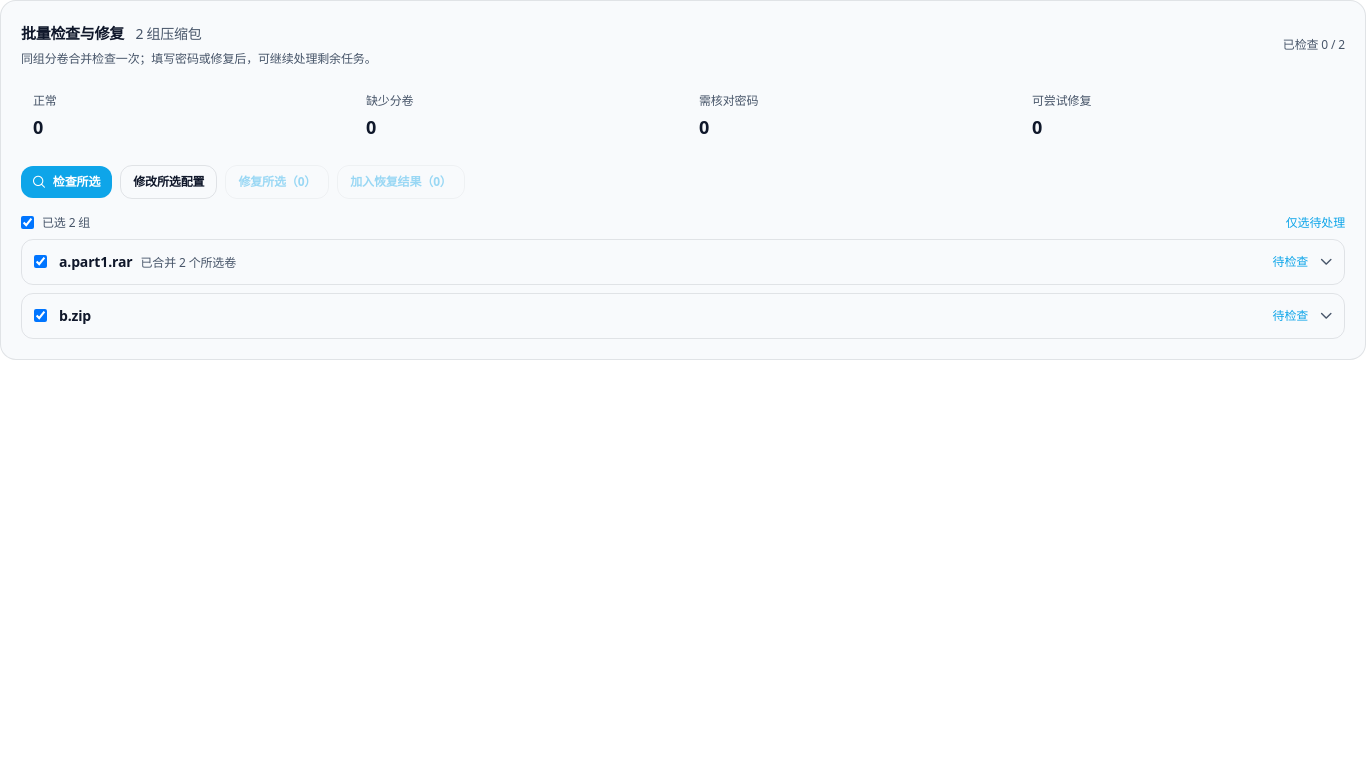
archive batch recovery user flow › groups volumes, expands individual rows and keeps bulk configuration inside a dialog
Expected: the number of elements with test id "archive-batch-row" is 2, [21,238,1345,284]; [21,292,1345,338]
Click the 1st button with test id "archive-batch-expand": (96, 261) [59,252,1332,272]
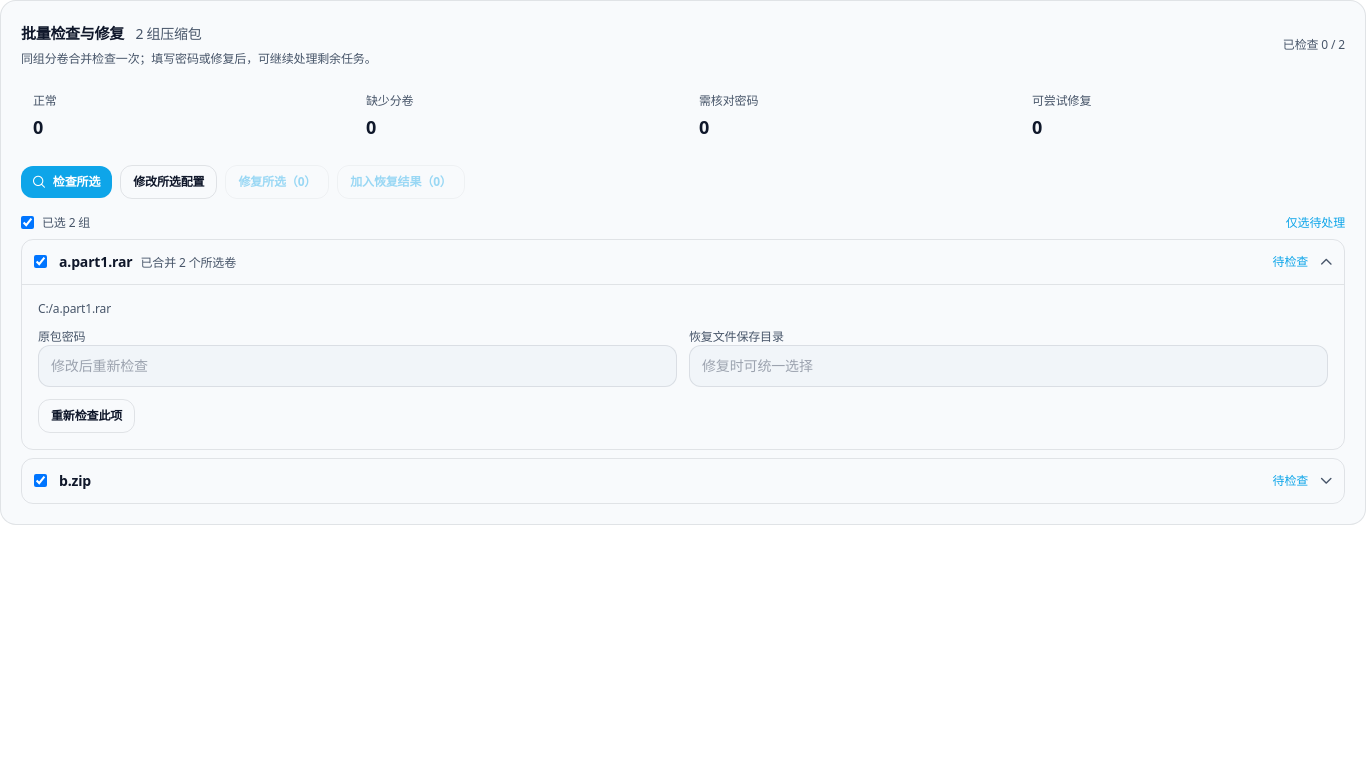
Now the element with test id "archive-batch-detail" is shown, box [22,284,1344,448]
Click the checkbox named "选择全部压缩包": (28, 222) [21,216,34,229]
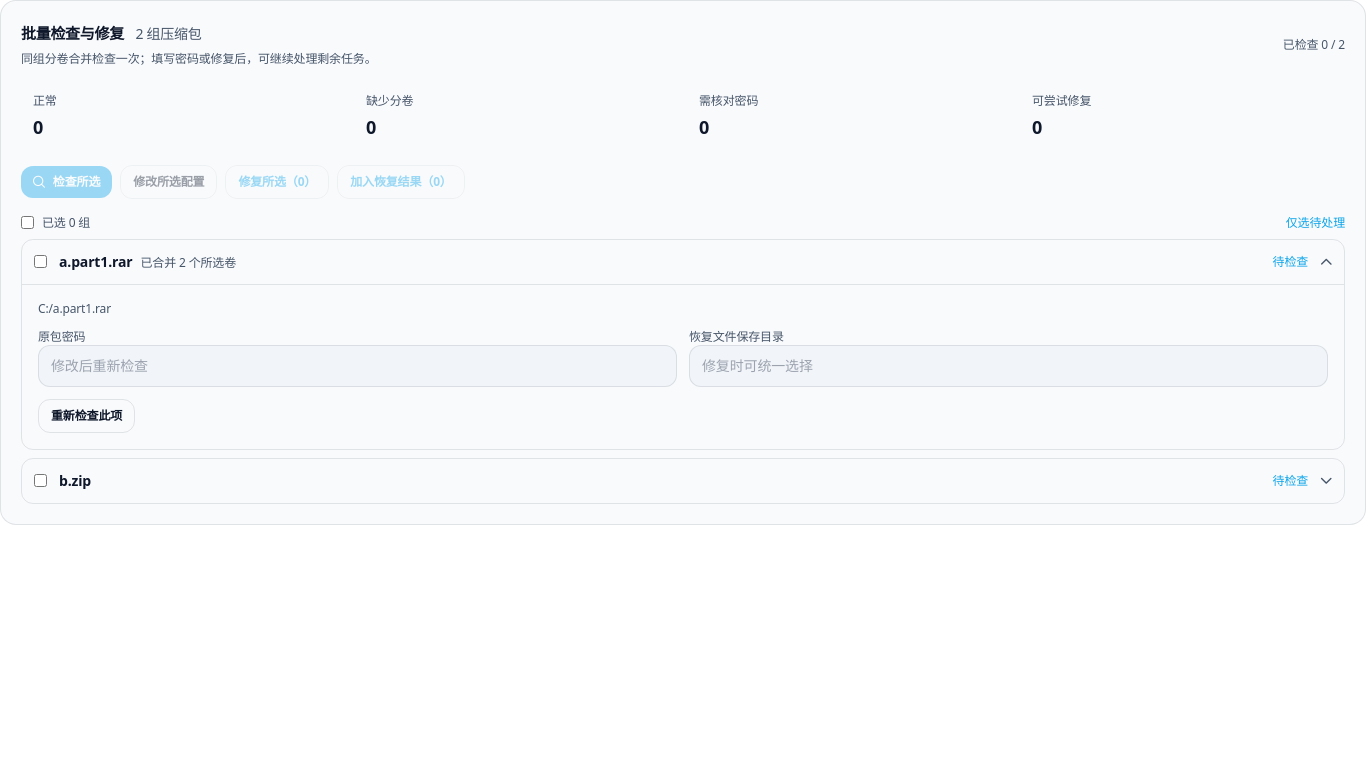
Now the button with test id "batch-diagnose" is disabled, box [21,166,112,198]
Click the checkbox named "选择全部压缩包": (28, 222) [21,216,34,229]
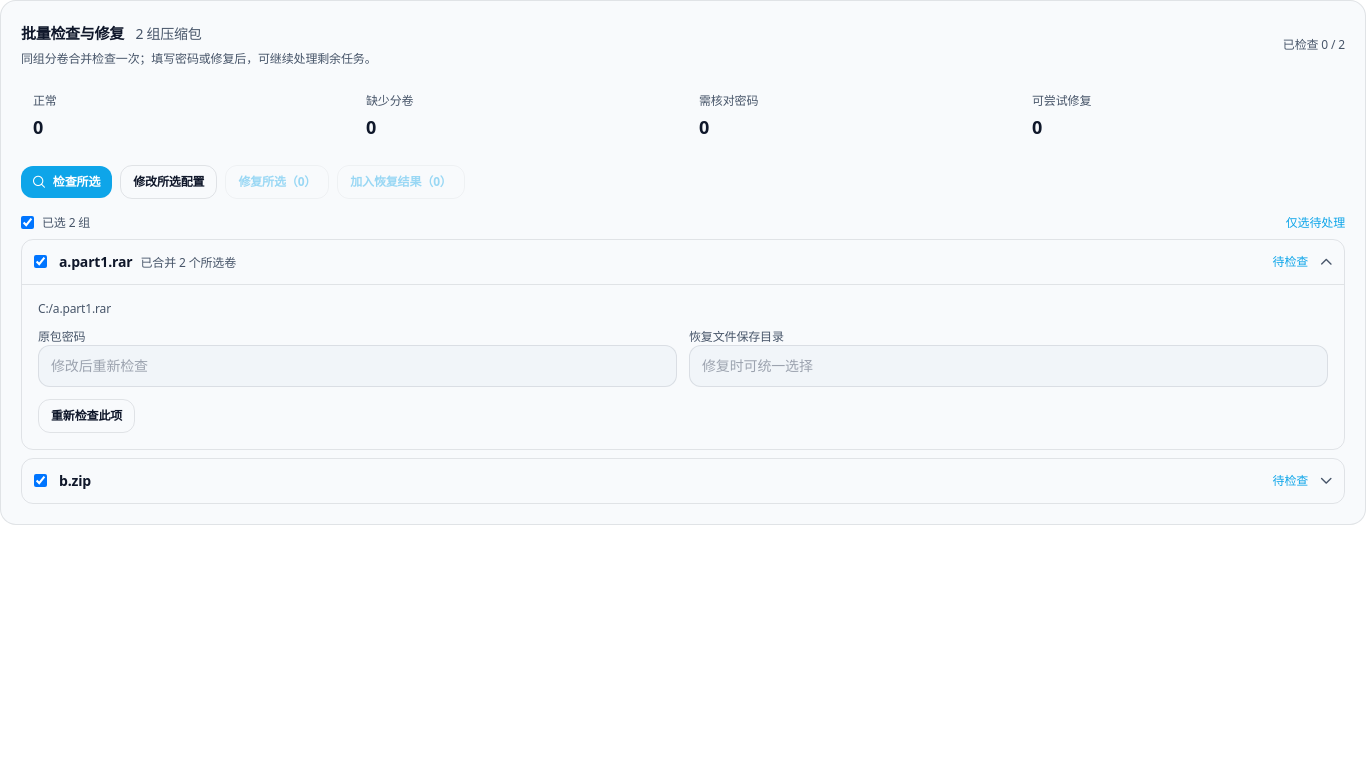
Now the button with test id "batch-diagnose" is enabled, box [21,166,112,198]
Click the button with test id "batch-recovery-config": (169, 182) [120,164,217,198]
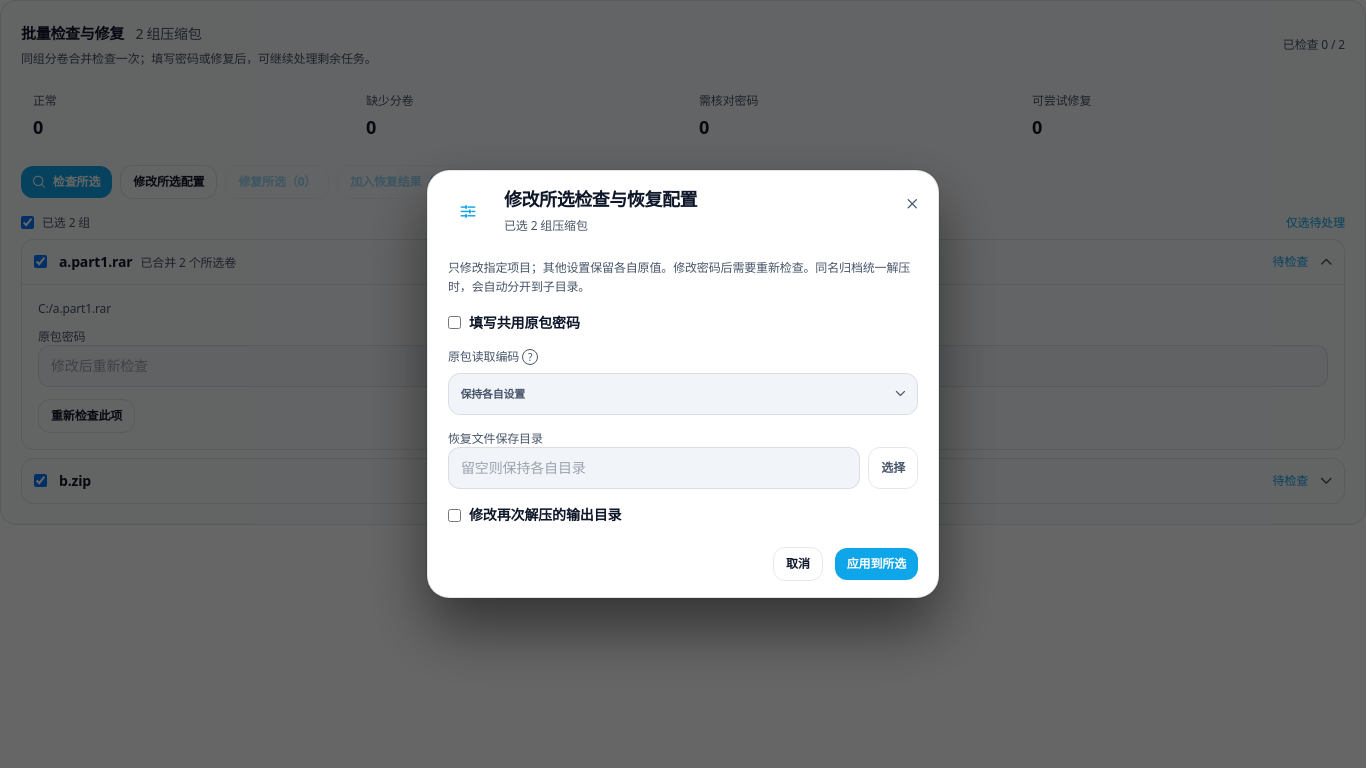
Now the element with test id "archive-batch-config-dialog" shows "共用原包密码", box [469,312,580,332]
